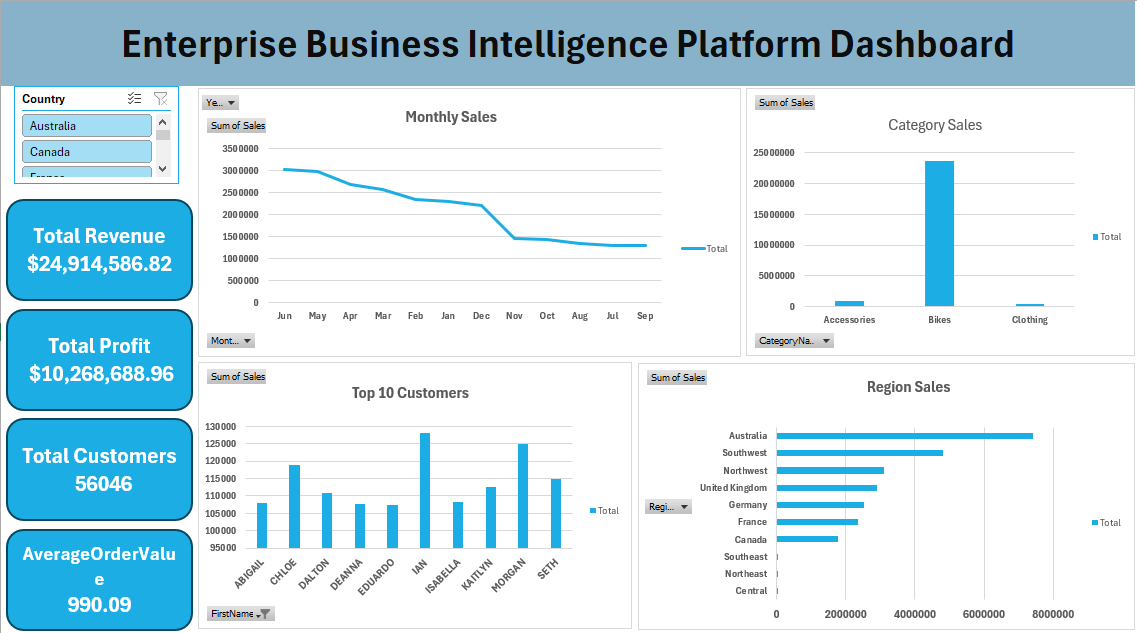

Layout of this report page (visuals, bound fields, positions):
{"tool":"tableau","page":{"name":"Dashboard 1","canvas":[1000,1000],"units":"permille","ordinal":0},"visuals":[{"type":"text","box":[4.7,8.8,990.6,90.7]},{"type":"worksheet","title":"Sheet 3","mark":"Automatic","box":[4.7,99.6,111,163.7]},{"type":"worksheet","title":"Sheet 5","mark":"Automatic","box":[115.7,99.6,111,163.7]},{"type":"worksheet","title":"Sheet 4","mark":"Automatic","box":[226.7,99.6,113.3,163.7]},{"type":"worksheet","title":"Sheet 6","mark":"Automatic","box":[339.9,99.6,113.2,163.7]},{"type":"worksheet","title":"Sheet 2","mark":"Automatic","box":[453.2,99.6,228.5,218.9]},{"type":"worksheet","title":"Sheet 1","mark":"Automatic","box":[681.7,99.6,220,129.5]},{"type":"legend","title":"Sheet 7","param":"[federated.1aws9jr1iyr5lv11f7j1b1no7b1o].[:Measure Names]","box":[901.7,99.6,93.6,50.9]},{"type":"legend","title":"Sheet 9","param":"[federated.1aws9jr1iyr5lv11f7j1b1no7b1o].[sum:Sales:qk]","box":[901.7,150.5,93.6,71.9]},{"type":"legend","title":"Sheet 10","param":"[federated.1aws9jr1iyr5lv11f7j1b1no7b1o].[none:Gender:nk]","box":[901.7,222.3,93.6,95.1]},{"type":"worksheet","title":"Sheet 8","mark":"Automatic","rows":["Sales"],"cols":["CategoryName"],"box":[681.7,229.1,220,316.3]},{"type":"worksheet","title":"Sheet 7","mark":"Automatic","rows":["Sales"],"cols":["OrderDate"],"box":[4.7,263.2,448.5,309.2]},{"type":"legend","title":"Sheet 10","param":"[federated.1aws9jr1iyr5lv11f7j1b1no7b1o].[sum:Sales:qk]","box":[901.7,317.5,93.6,50.9]},{"type":"worksheet","title":"Sheet 11","mark":"Automatic","rows":["Sales"],"cols":["Year"],"box":[453.2,318.4,228.5,672.7]},{"type":"legend","title":"Sheet 11","param":"[federated.1aws9jr1iyr5lv11f7j1b1no7b1o].[none:Year:nk]","box":[901.7,368.4,93.6,95.1]},{"type":"legend","title":"Sheet 8","param":"[federated.1aws9jr1iyr5lv11f7j1b1no7b1o].[none:CategoryName:nk]","box":[901.7,463.5,93.6,95.1]},{"type":"worksheet","title":"Sheet 10","mark":"Pie","box":[681.7,545.4,220,445.8]},{"type":"worksheet","title":"Sheet 9","mark":"Automatic","box":[4.7,572.5,448.5,418.7]}]}

Visuals, with their boxes on the dashboard's canvas, which has no fixed pixel size, in thousandths of its width and height (x1, y1, x2, y2). These are canvas units, not pixel positions in the 1137x633 screenshot, which may show the page scaled, cropped or inside an application window:
text: select_region(5, 9, 995, 100)
"Sheet 3" worksheet: select_region(5, 100, 116, 263)
"Sheet 5" worksheet: select_region(116, 100, 227, 263)
"Sheet 4" worksheet: select_region(227, 100, 340, 263)
"Sheet 6" worksheet: select_region(340, 100, 453, 263)
"Sheet 2" worksheet: select_region(453, 100, 682, 318)
"Sheet 1" worksheet: select_region(682, 100, 902, 229)
"Sheet 7" legend: select_region(902, 100, 995, 150)
"Sheet 9" legend: select_region(902, 150, 995, 222)
"Sheet 10" legend: select_region(902, 222, 995, 317)
"Sheet 8" worksheet: select_region(682, 229, 902, 545)
"Sheet 7" worksheet: select_region(5, 263, 453, 572)
"Sheet 10" legend: select_region(902, 318, 995, 368)
"Sheet 11" worksheet: select_region(453, 318, 682, 991)
"Sheet 11" legend: select_region(902, 368, 995, 464)
"Sheet 8" legend: select_region(902, 464, 995, 559)
"Sheet 10" worksheet (Pie marks): select_region(682, 545, 902, 991)
"Sheet 9" worksheet: select_region(5, 572, 453, 991)
